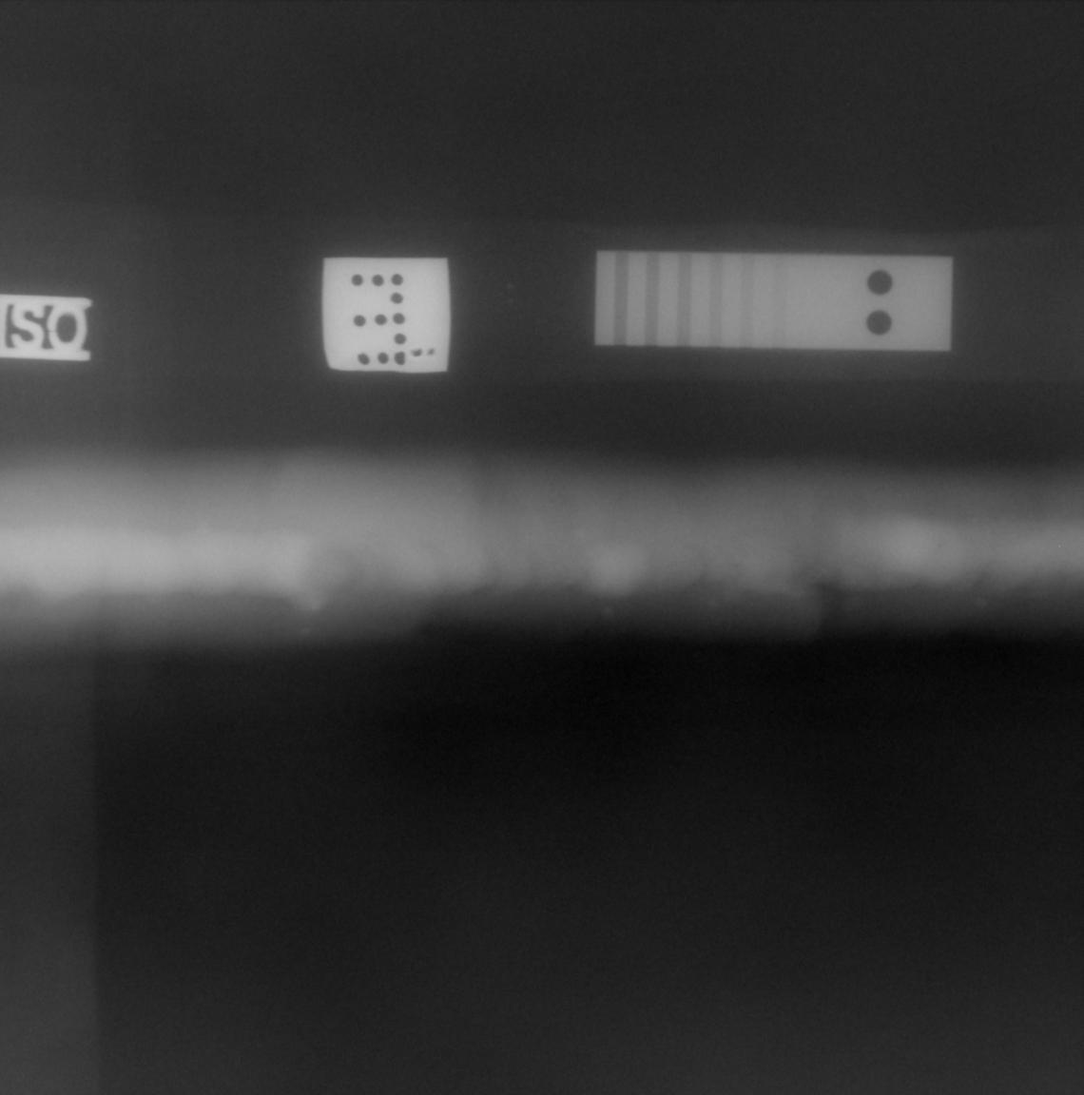Pore/Porosity: (731, 563, 739, 567), (693, 583, 697, 586)
Reference Standard 2: (595, 250, 953, 352)
